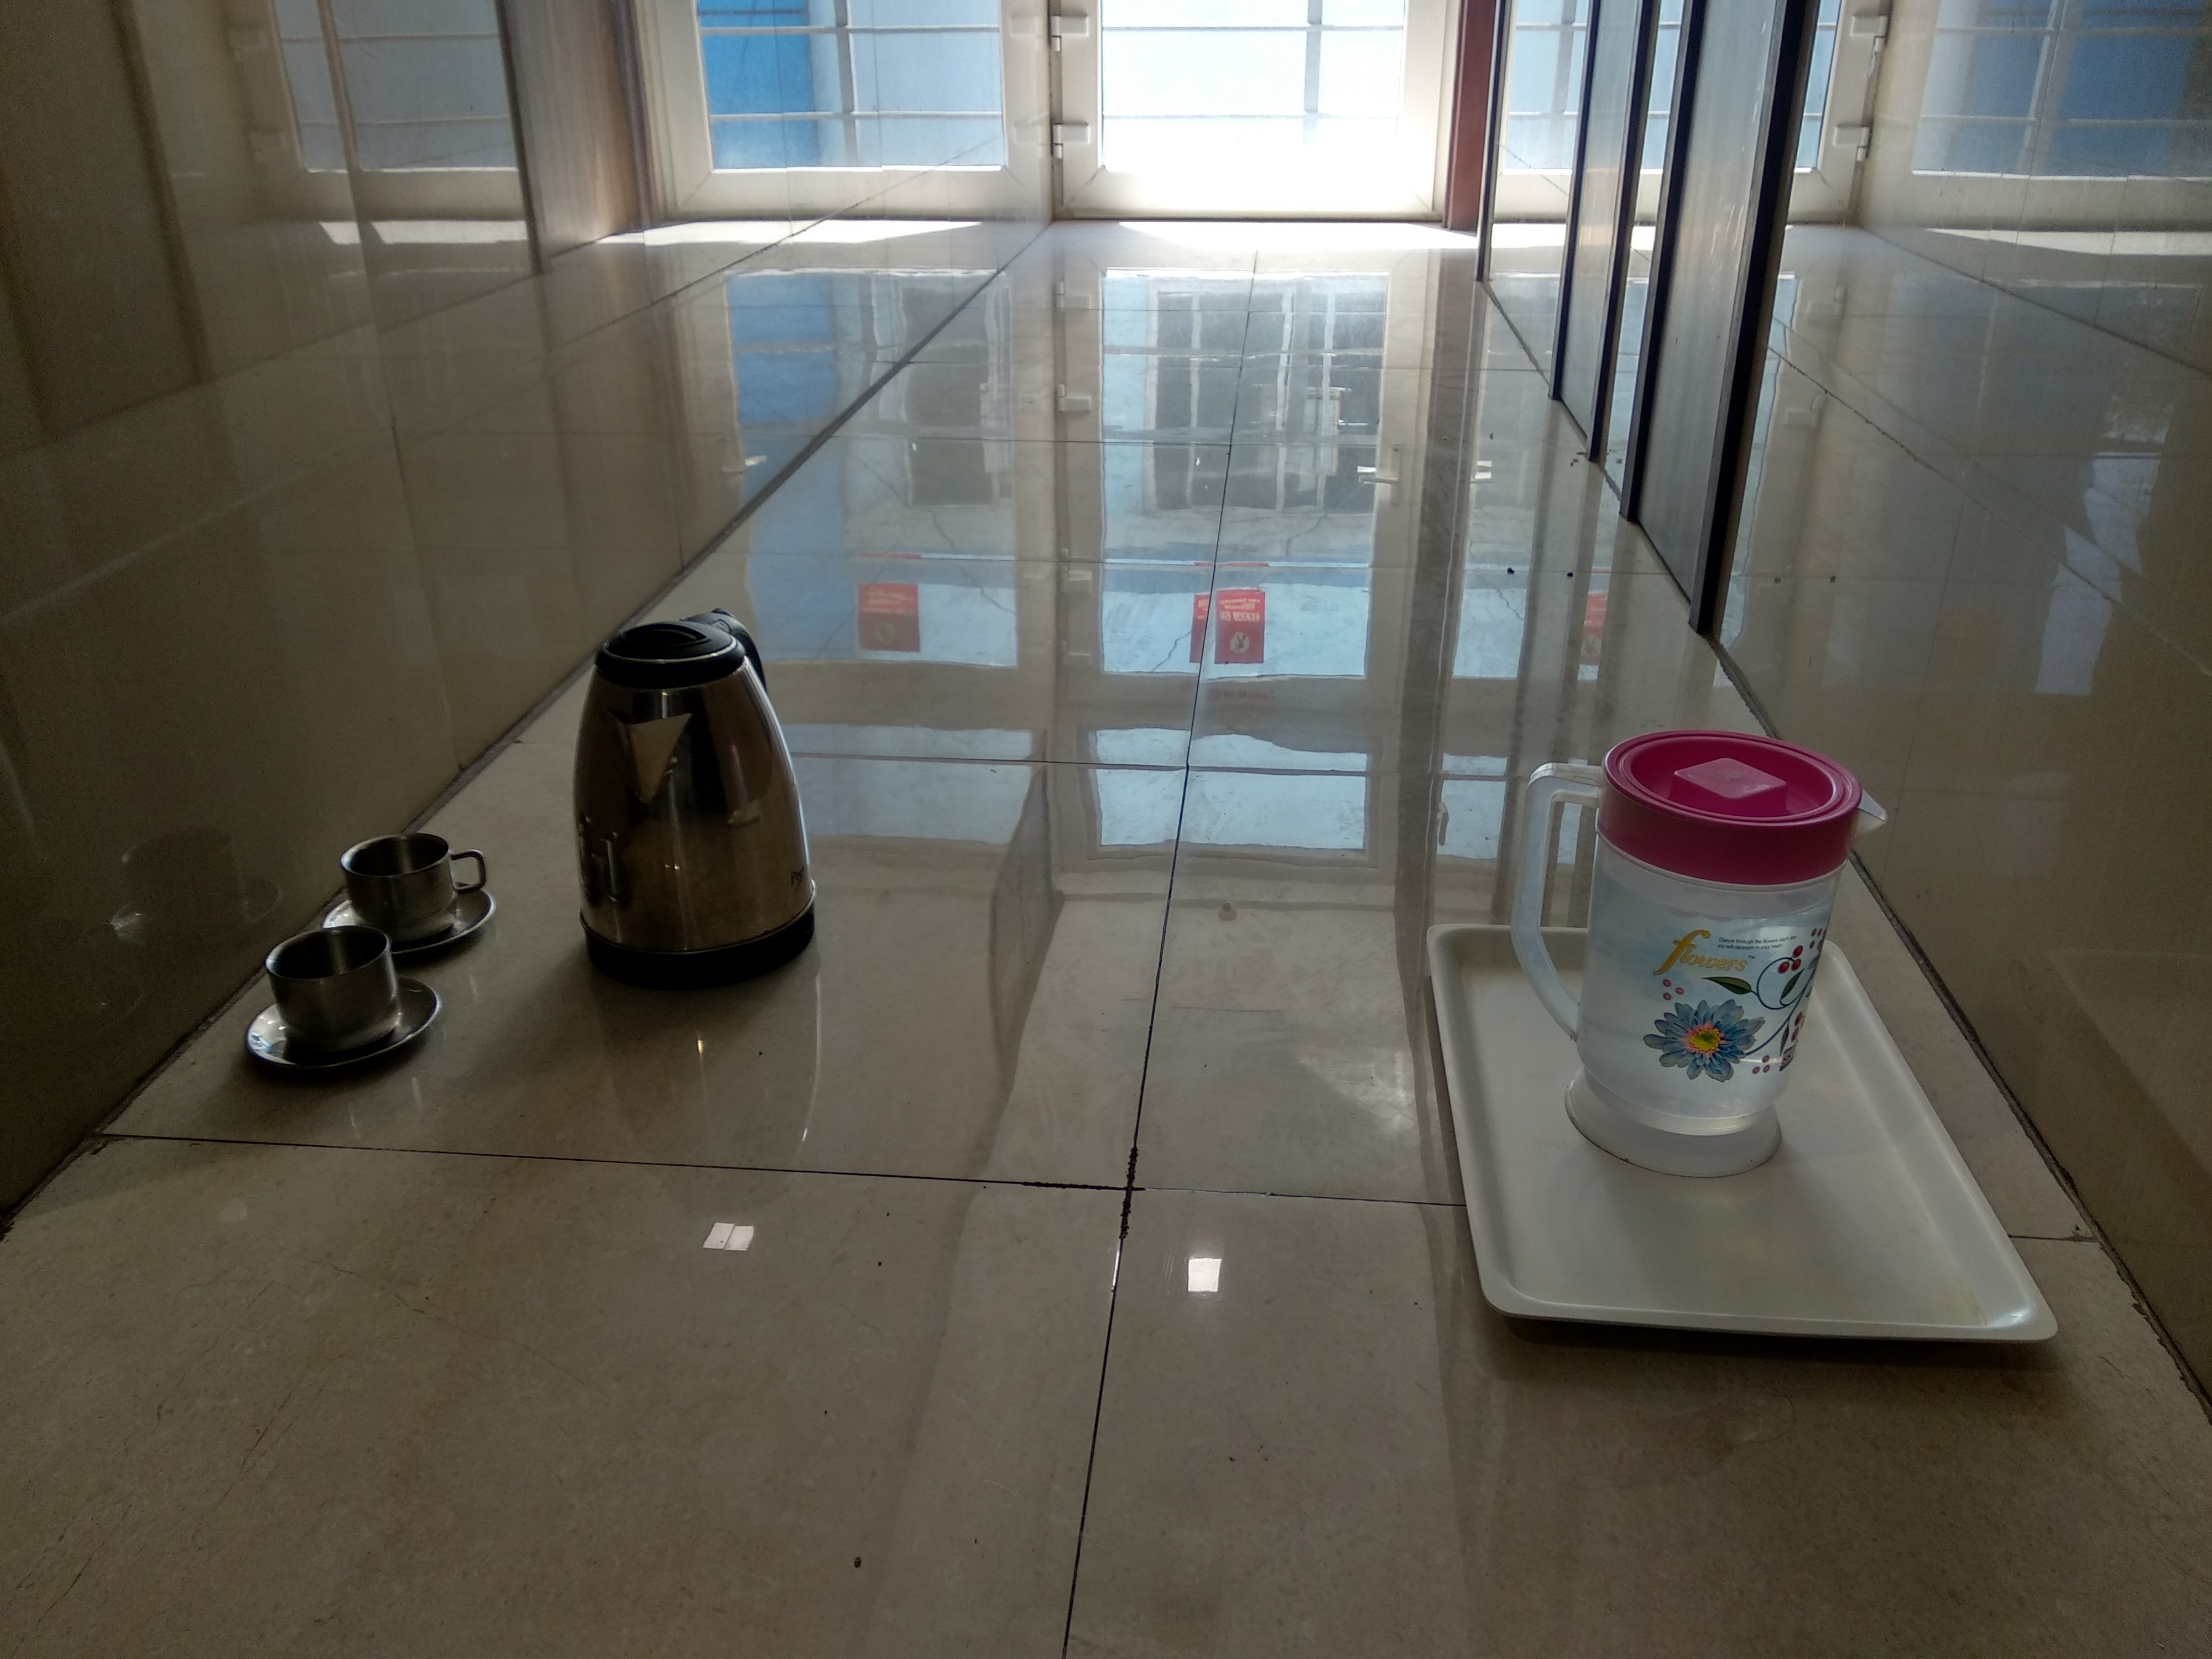CUP: (237, 931, 458, 1080), (326, 826, 500, 939)
JUG: (1496, 694, 1905, 1204), (526, 617, 860, 995)
